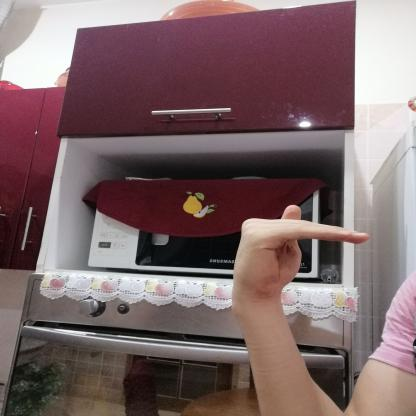KHAA: (215, 198, 382, 318)
